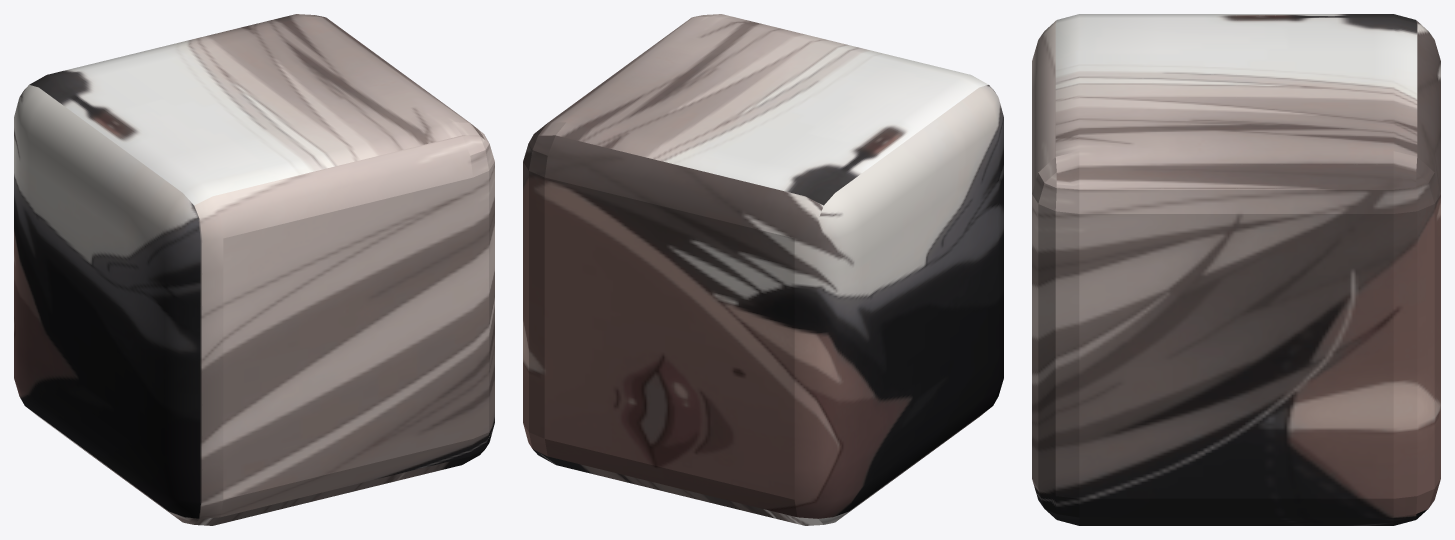
3 views of the same model, side by side, from view 1: azimuth 30°, elevation 25°; view 2: azimuth 150°, elevation 25°; view 3: azimuth 270°, elevation 25° (orthographic). The views are drawn at different scales.
Visible parts, largest first — view 1: Cube.001; view 2: Cube.001; view 3: Cube.001.
Part boxes in pixels (x1,y1,x2,y2): Cube.001: (14, 14, 494, 525); Cube.001: (523, 14, 1003, 525); Cube.001: (1032, 14, 1440, 525).
Bounding box in the file's own units: 2 × 2 × 2.
1 material, 1 textured.
